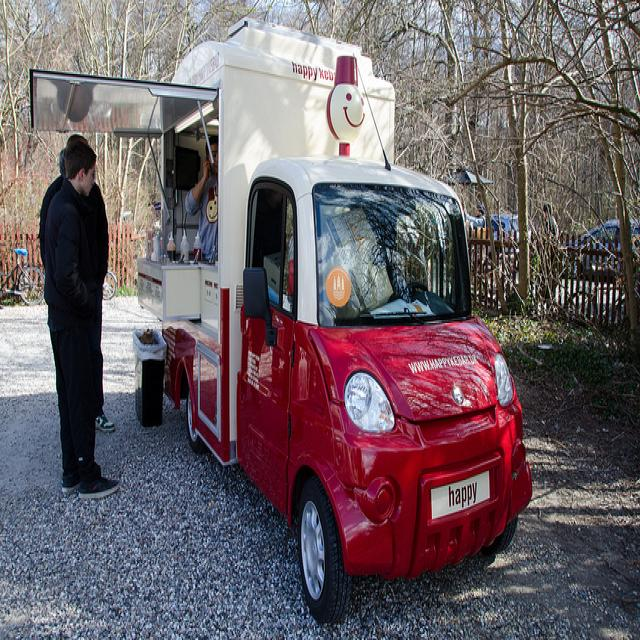Vehicle: (29, 17, 536, 628), (563, 220, 625, 285), (490, 214, 519, 242)
